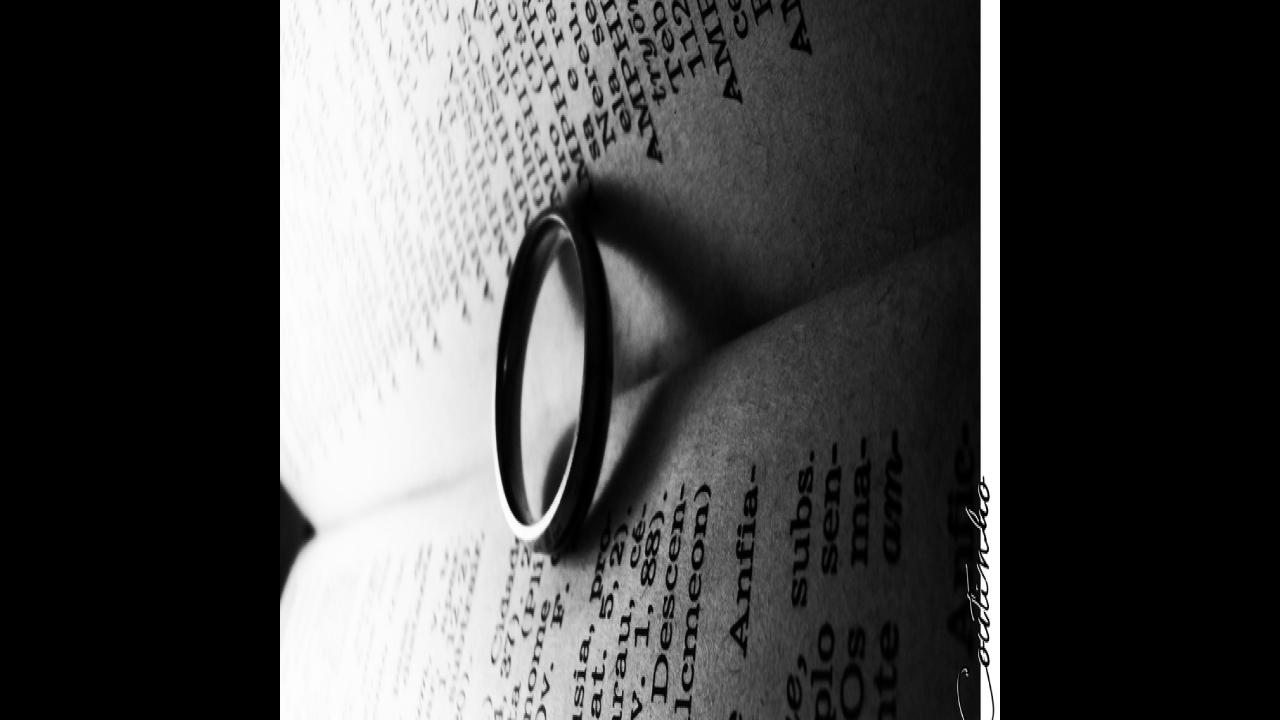ring: (484, 187, 614, 557)
